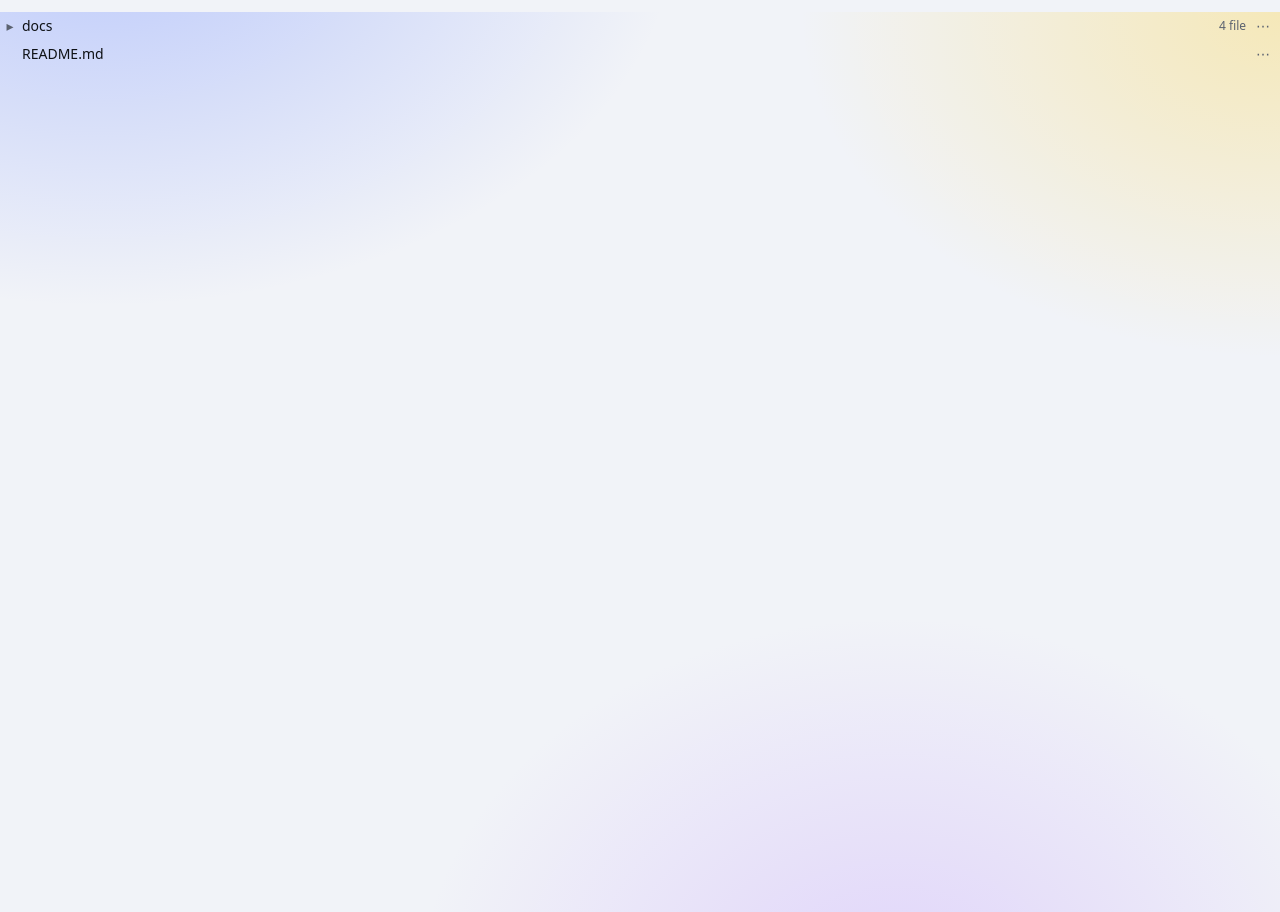
Test: KnowledgeTreeView (T05-AC1 UI) › one folder failing shows a retry row without breaking others
What coordinates should you click on to do the following:
click the button "▸ docs 4 file"
I would click on:
 (37, 26)
Its box is [4, 12, 1246, 40].
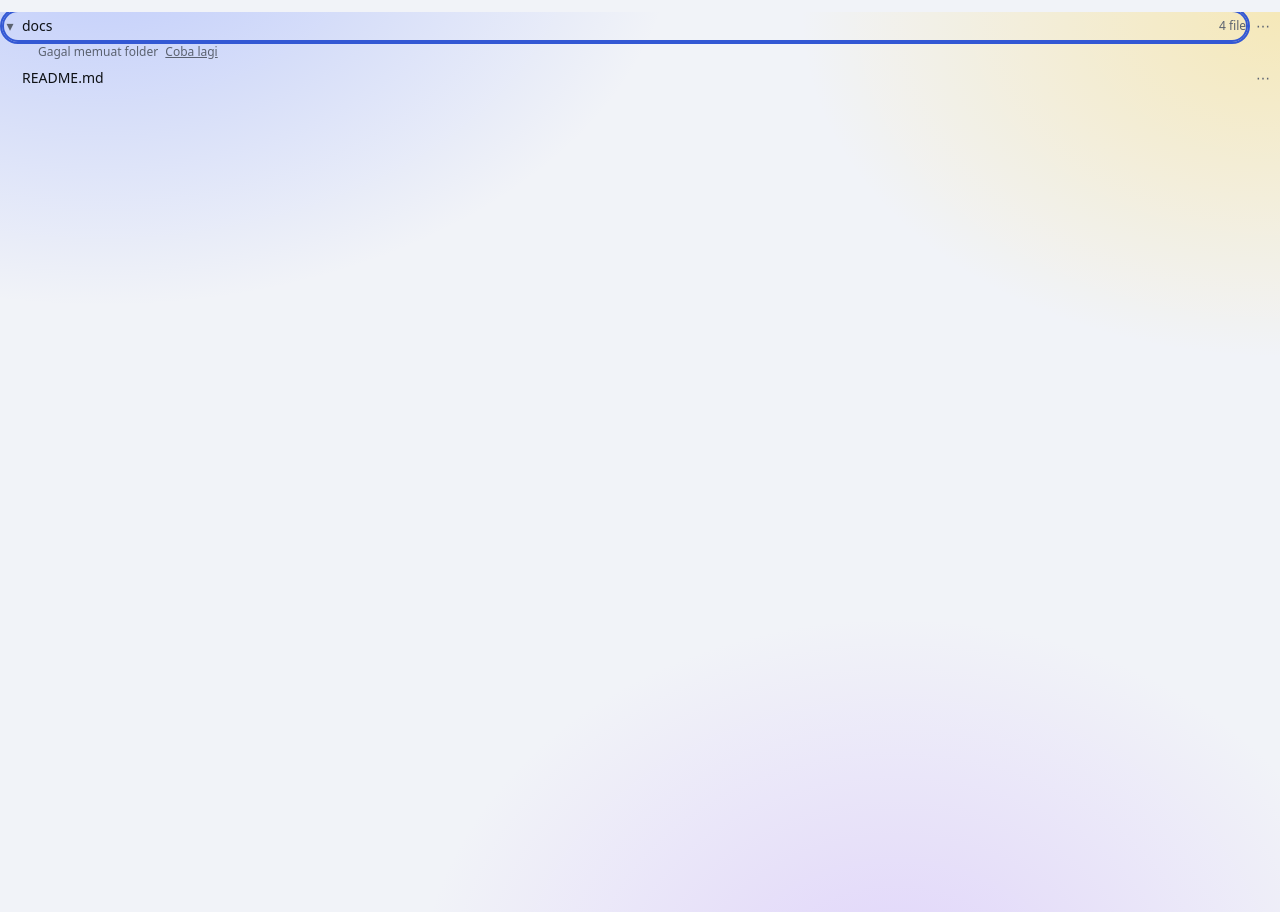
Expected: the button "README.md" is shown, [4, 64, 1246, 92]
Now the list item "Gagal memuat folder" is shown, box [38, 43, 161, 60]
